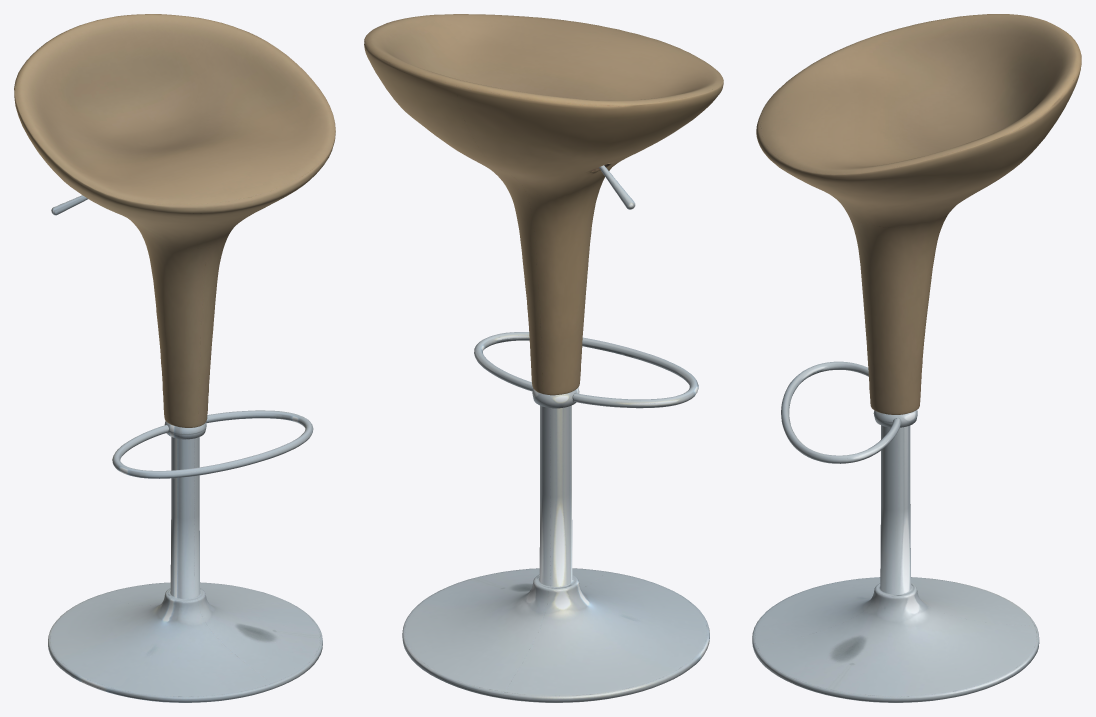
Rendered from bombo_anthracite_chrome_plated.glb.
3 renders of one model, left to right at view 1: azimuth 30°, elevation 25°; view 2: azimuth 150°, elevation 25°; view 3: azimuth 270°, elevation 25°, orthographic. The views are drawn at different scales.
Parts seen in each view (by area): view 1: petilia-beige; view 2: petilia-beige; view 3: petilia-beige.
Boxes of the visible parts, x1,y1,x2,y2 form: petilia-beige: [14, 14, 335, 702]; petilia-beige: [364, 14, 723, 702]; petilia-beige: [752, 14, 1081, 702].
Bounding box in the file's own units: 0.4008 × 0.7904 × 0.4012.
1 material, 1 textured.
